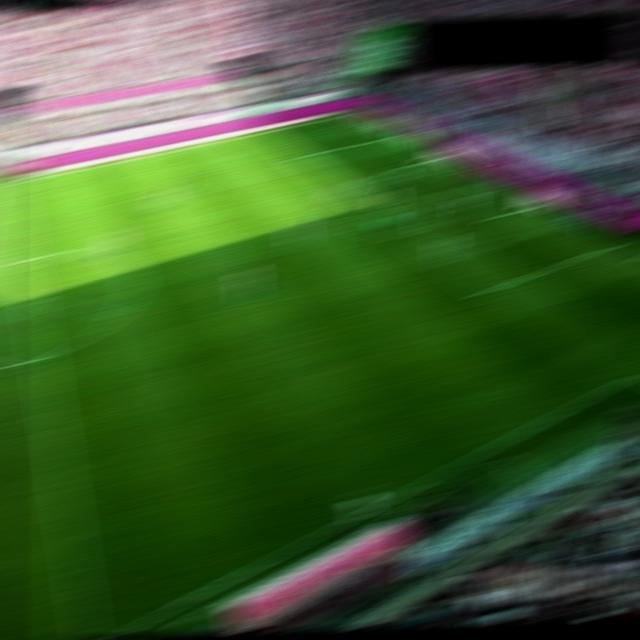bigarea_bottom_inner: (468, 286, 501, 301)
bigarea_bottom_outter: (598, 242, 624, 251)
bigarea_top_inner: (283, 154, 309, 163)
bigarea_top_outter: (381, 133, 406, 141)
bottom_arc_area_intersection: (391, 230, 417, 239)
corner: (336, 109, 361, 118)
halfcircle_bottom: (29, 353, 54, 361)
halfcircle_top: (14, 255, 39, 265)
midline_top_intersection: (0, 176, 24, 186)
smallarea_bottom_inner: (484, 213, 510, 221)
smallarea_bottom_outter: (521, 202, 547, 211)
smallarea_top_inner: (393, 161, 418, 171)
smallarea_top_outter: (424, 154, 450, 164)
top_arc_area_intersection: (326, 185, 352, 193)
